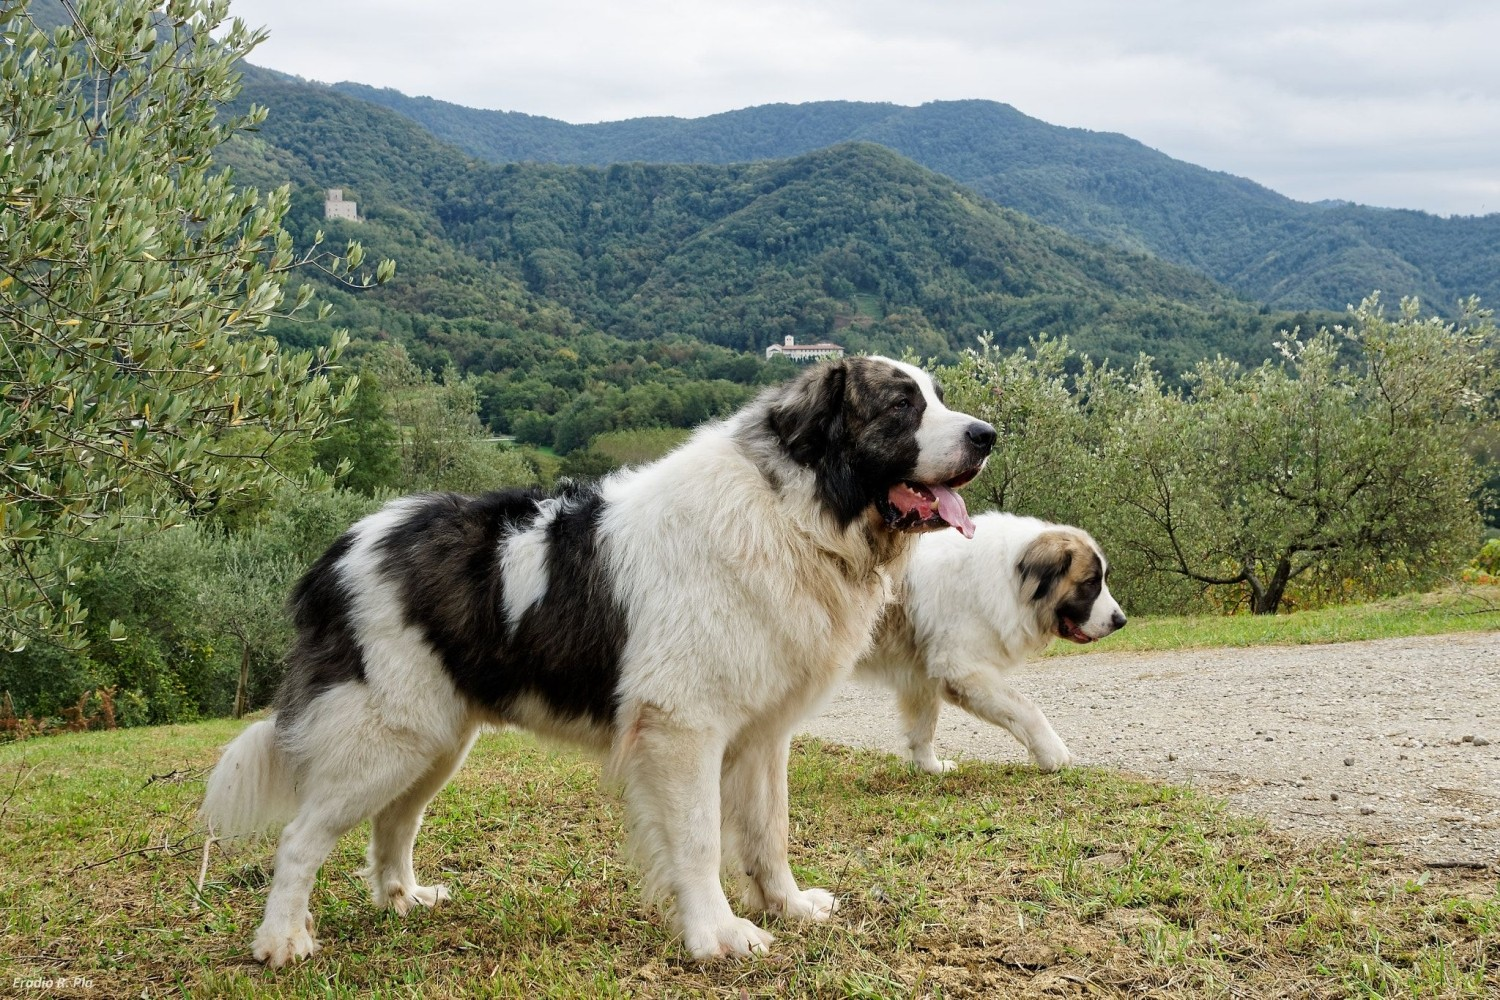other_dog_breed: (198, 354, 997, 971), (862, 510, 1126, 775)
